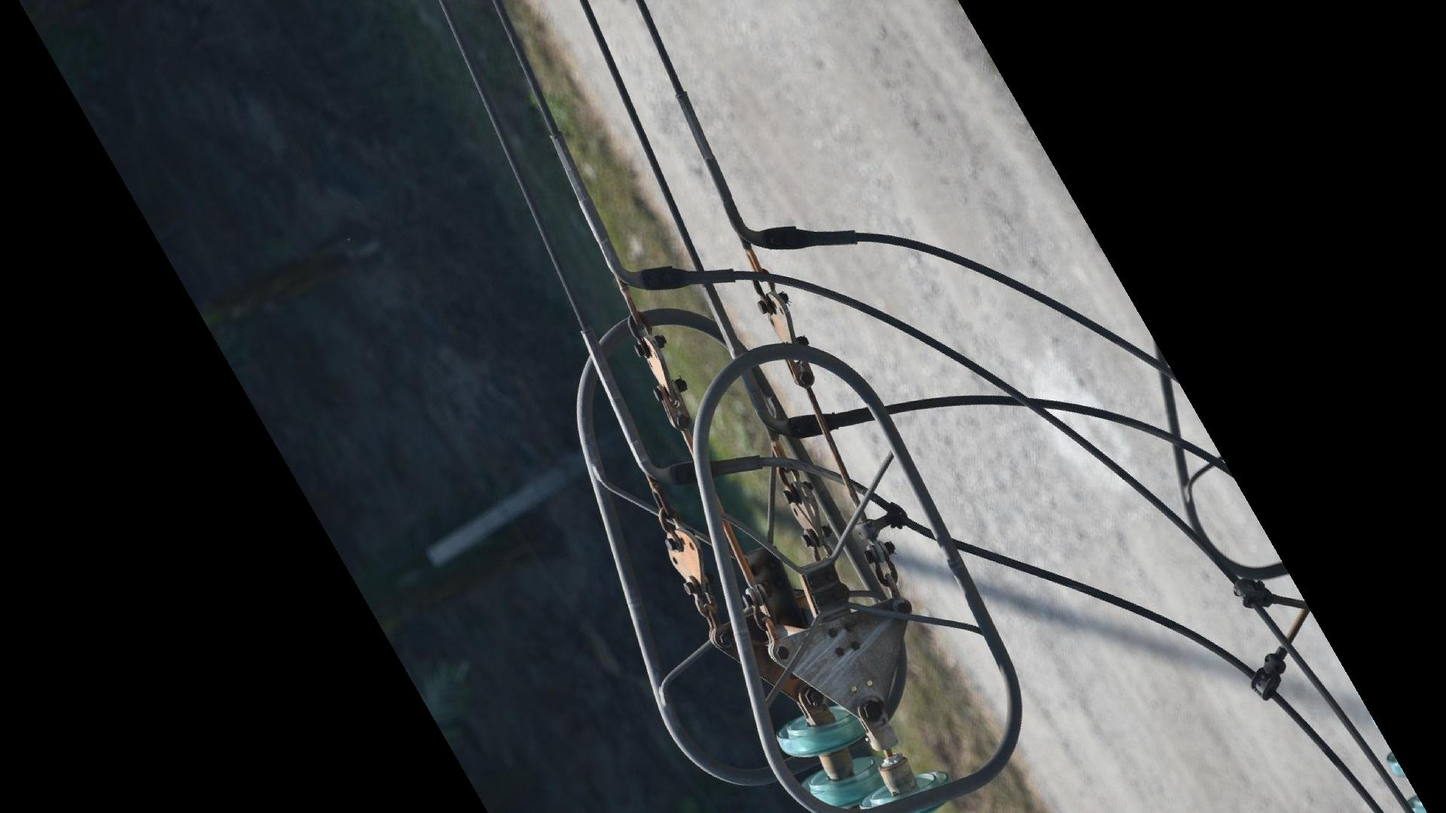insulator: (771, 695, 958, 813)
